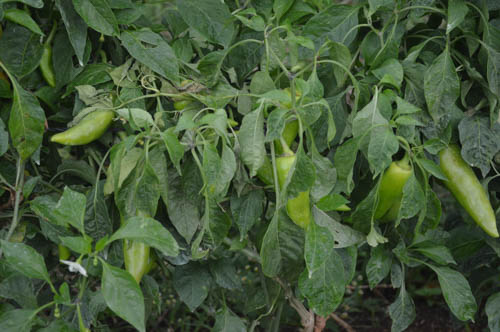ChiliPepper: (432, 138, 500, 246), (367, 151, 415, 239), (269, 153, 322, 231), (115, 205, 158, 293), (50, 110, 117, 150)
